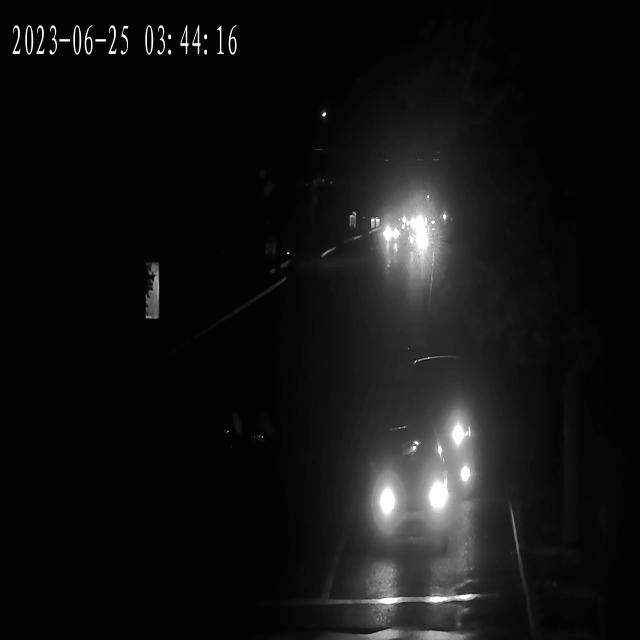Car: (362, 446, 456, 538), (388, 370, 476, 462), (381, 217, 402, 254), (412, 224, 432, 248)
